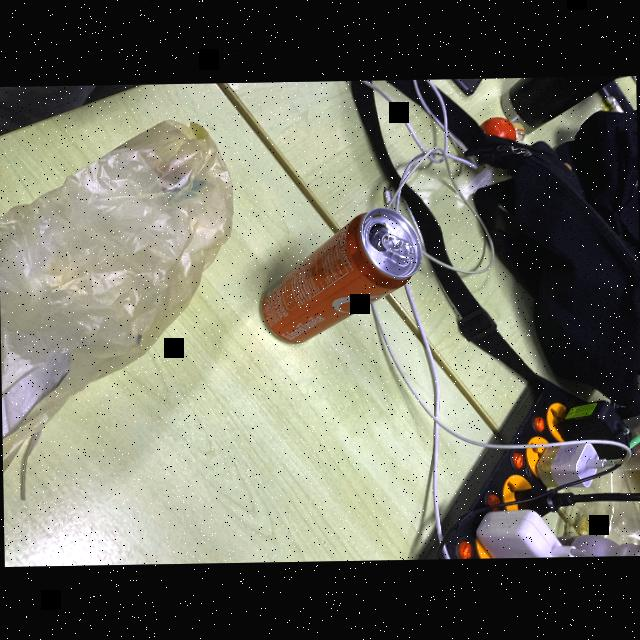can: (254, 206, 426, 346)
plastic_bag: (0, 113, 244, 499)
plastic_bottle: (560, 530, 640, 555)
